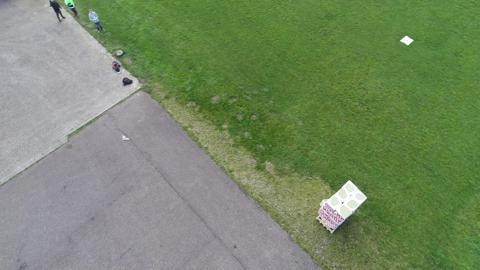RockwoolPallet: (319, 180, 368, 231)
